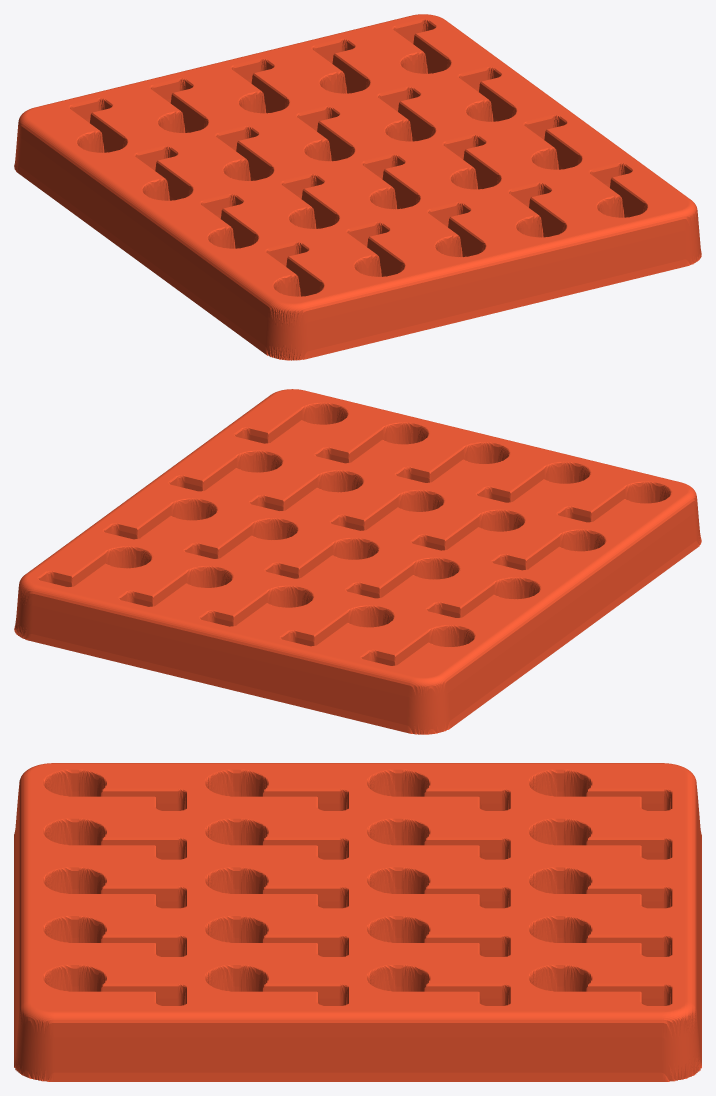
The model's file is mold.glb.
The picture shows the model from 3 angles, top to bottom: view 1: azimuth 30°, elevation 25°; view 2: azimuth 150°, elevation 25°; view 3: azimuth 270°, elevation 25°; orthographic projection. The views are drawn at different scales.
Parts seen in each view (by area): view 1: geometry_0; view 2: geometry_0; view 3: geometry_0.
Part boxes in pixels (left/top/right/bottom): geometry_0: left=14, top=14, right=701, bottom=360; geometry_0: left=14, top=389, right=701, bottom=734; geometry_0: left=14, top=763, right=701, bottom=1081.
Size of the model in its own units: 0.1403 by 0.0159 by 0.1563.
